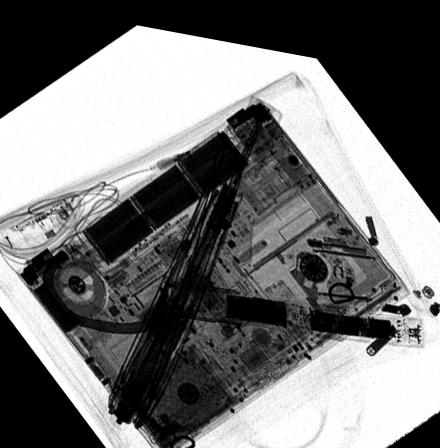Baton: (161, 272, 427, 332)
